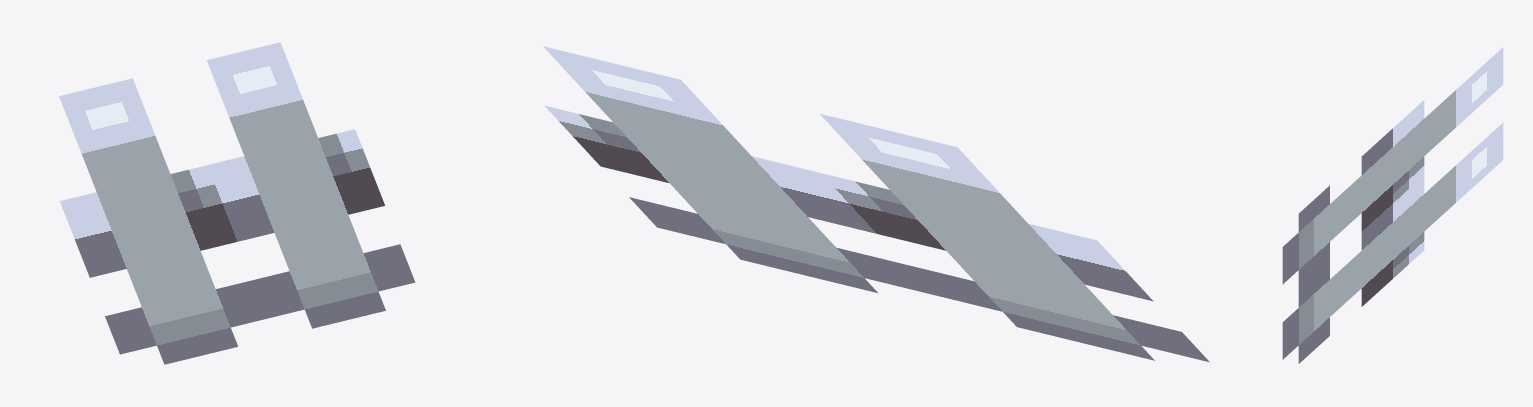
The picture shows the model from 3 angles, left to right: view 1: azimuth 30°, elevation 25°; view 2: azimuth 150°, elevation 25°; view 3: azimuth 270°, elevation 25°; orthographic projection. The views are drawn at different scales.
Bounding box in the file's own units: 1 × 0.707 × 0.707.
1 material, 1 textured.
